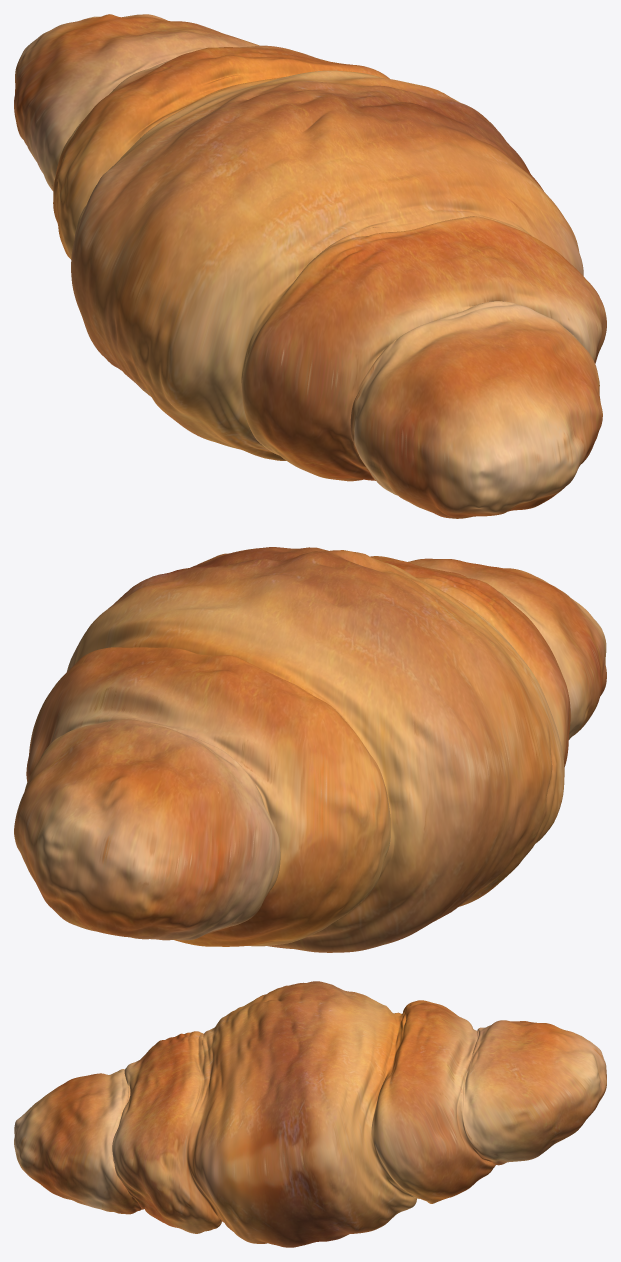
File: Crossaint.fbx
The picture shows the model from 3 angles, top to bottom: view 1: azimuth 30°, elevation 25°; view 2: azimuth 150°, elevation 25°; view 3: azimuth 270°, elevation 25°; orthographic projection. The views are drawn at different scales.
Parts seen in each view (by area): view 1: Cube; view 2: Cube; view 3: Cube.
Part boxes in pixels (x1,y1,x2,y2): Cube: (14, 14, 606, 518); Cube: (14, 547, 606, 952); Cube: (14, 981, 606, 1247).
Bounding box in the file's own units: 125 × 96.77 × 236.
